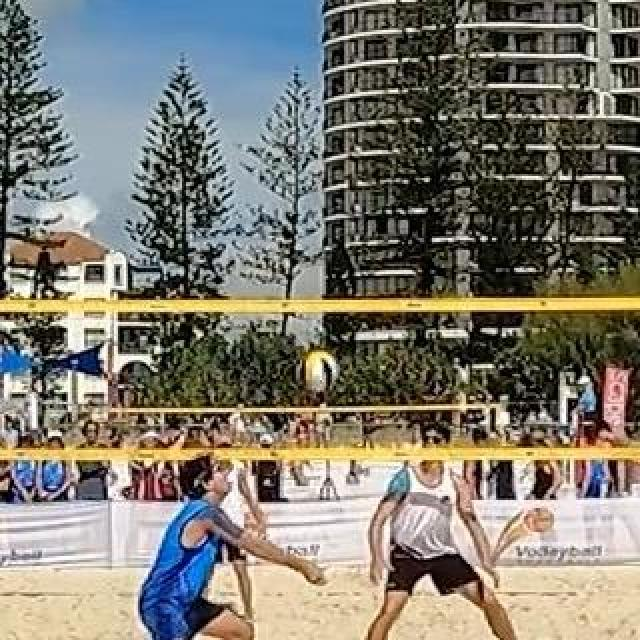volleyball: (304, 351, 338, 387)
